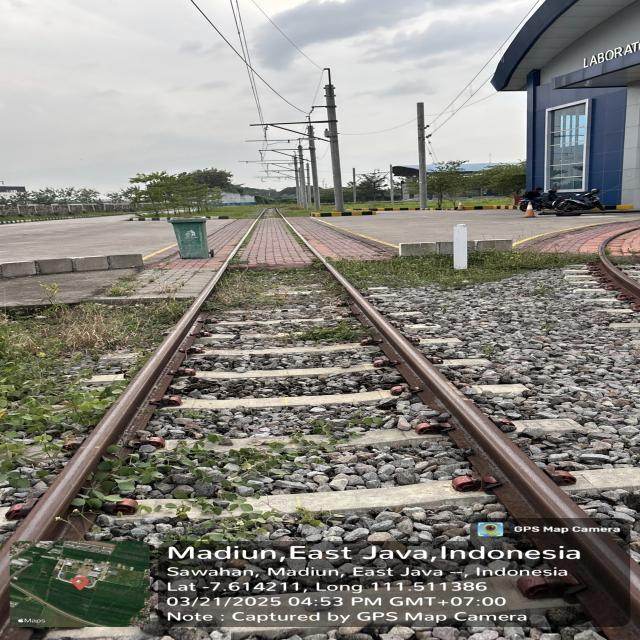rail-detection: (0, 280, 216, 620), (323, 260, 593, 527), (566, 531, 633, 627), (201, 210, 264, 298), (281, 213, 327, 265)
